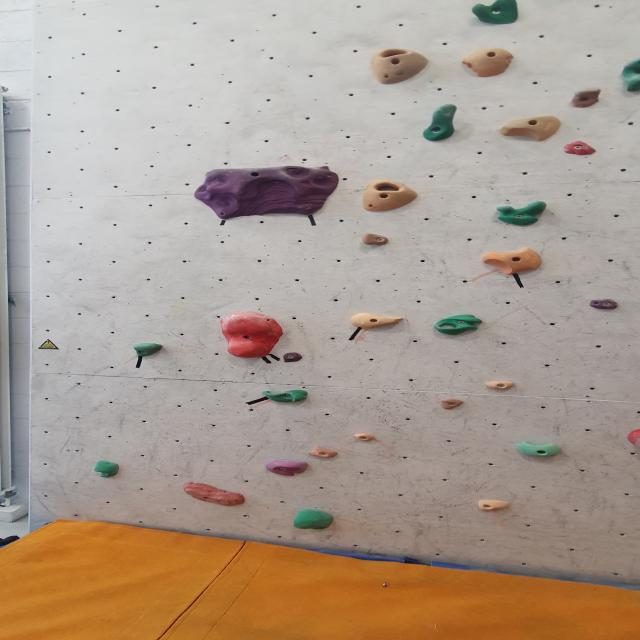Crimp: (186, 163, 341, 224), (182, 483, 248, 508), (560, 140, 597, 156), (475, 498, 512, 512), (484, 381, 517, 392), (438, 398, 466, 410)
Jug: (420, 103, 462, 142), (468, 0, 526, 26), (495, 202, 550, 228), (618, 56, 640, 94), (570, 88, 603, 110), (262, 389, 310, 403), (132, 344, 164, 358), (360, 235, 392, 248)
Pinch: (494, 114, 564, 142), (479, 250, 544, 277), (348, 314, 403, 331), (513, 443, 563, 460), (308, 446, 340, 461)
Pocket: (364, 46, 430, 86), (361, 178, 421, 214), (433, 315, 485, 335)
Sloper: (217, 312, 286, 360), (458, 48, 516, 78), (292, 510, 336, 533), (263, 459, 309, 476), (625, 428, 640, 450)
